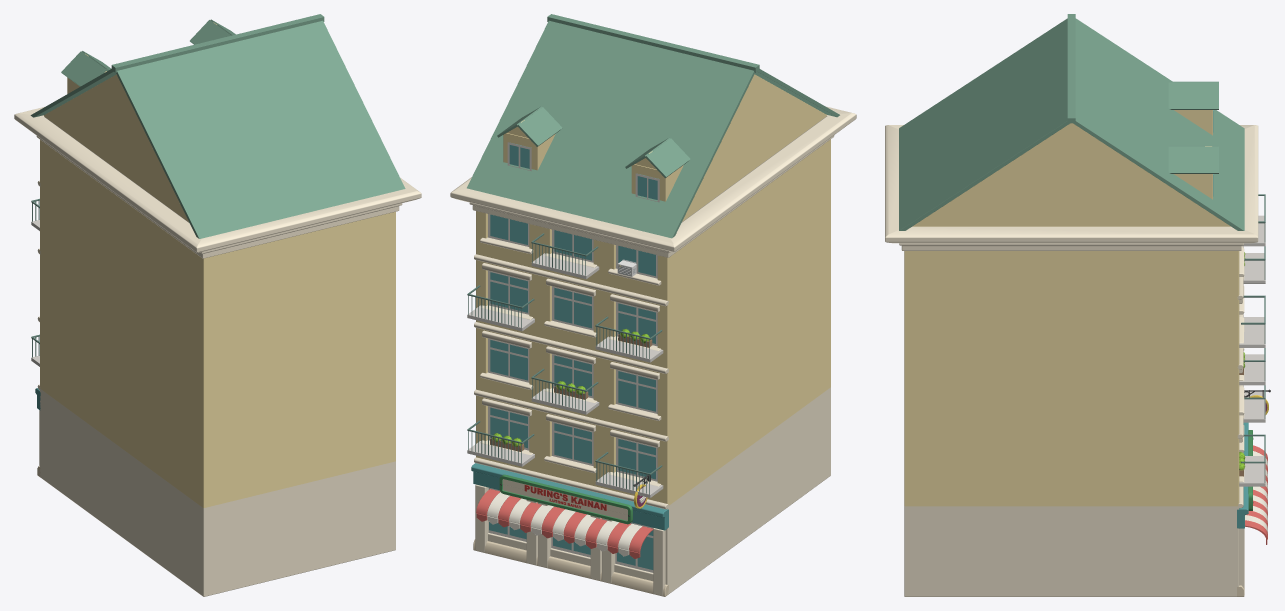
File: shophouse_butter_4.glb
3 renders of one model, left to right at view 1: azimuth 30°, elevation 25°; view 2: azimuth 150°, elevation 25°; view 3: azimuth 270°, elevation 25°, orthographic. The views are drawn at different scales.
Visible parts, largest first — view 1: shell, props, trim; view 2: shell, props, trim, frames, awnings, sign_puring_s_kainan, sign_puring_s_kainan_text, foliage; view 3: shell, props, trim, awnings.
Part boxes in pixels (x1,y1,x2,y2): shell: (40, 117, 395, 596); props: (30, 14, 405, 366); trim: (14, 107, 421, 477); shell: (476, 116, 830, 593); props: (467, 14, 839, 497); trim: (450, 106, 856, 596); frames: (488, 142, 659, 572); awnings: (476, 489, 653, 558); sign_puring_s_kainan: (499, 474, 632, 524); sign_puring_s_kainan_text: (524, 484, 606, 510); foliage: (492, 328, 649, 446); shell: (904, 251, 1239, 596); props: (899, 14, 1265, 486); trim: (885, 125, 1258, 596); awnings: (1245, 445, 1267, 544).
Size of the model in its own units: 11.1 by 22.28 by 16.13.
Materials: 26 (2 with a texture image).
